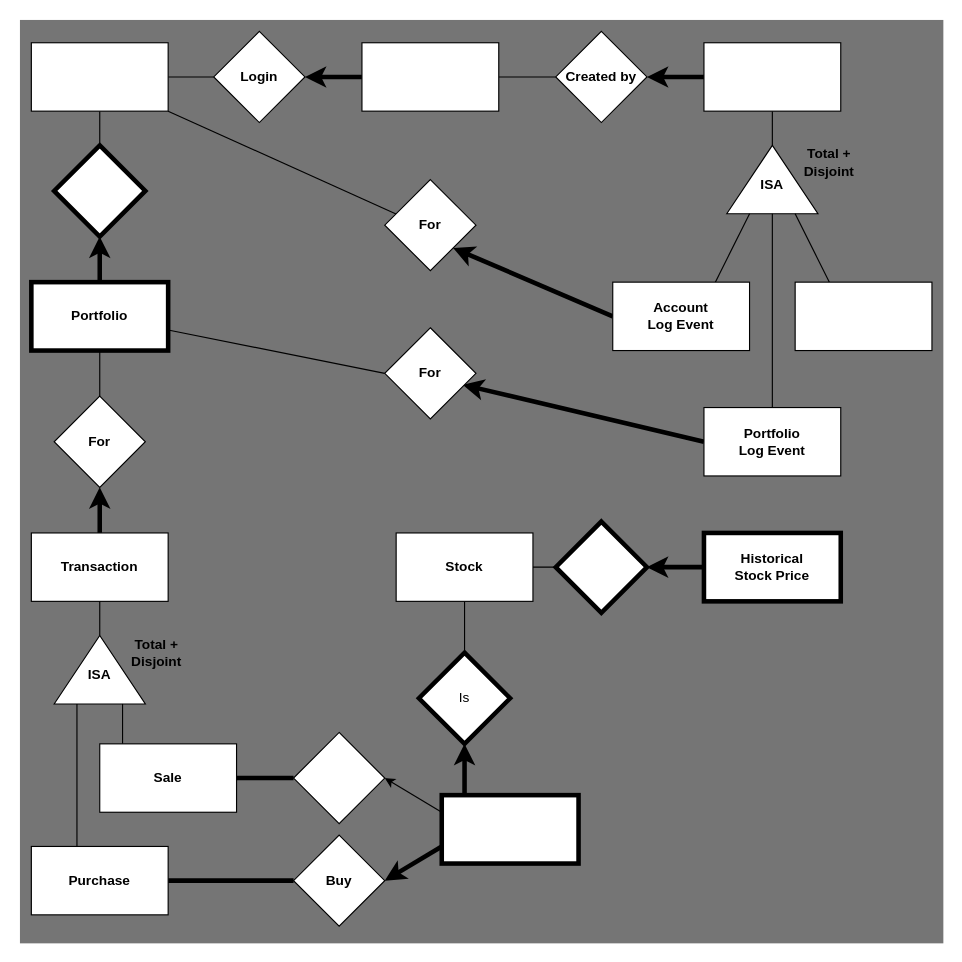
Some shapes in this 962 by 962 pixel diagram are drawn without their labels. Here are the shapes that lost their labels. From the top down, the centre of each, then its label:
At point 99,76: "Account".
At point 430,76: "Auth Session".
At point 772,76: "Log Event".
At point 99,190: "Belongs to".
At point 863,316: "Generic Log Event".
At point 601,566: "Tracks".
At point 338,777: "Sell".
At point 509,828: "Held Share".
